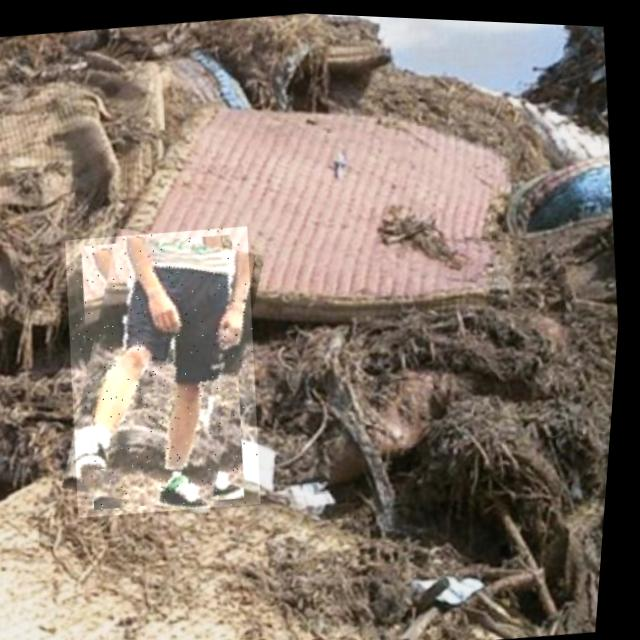Person in Rubble: (52, 217, 285, 523)
